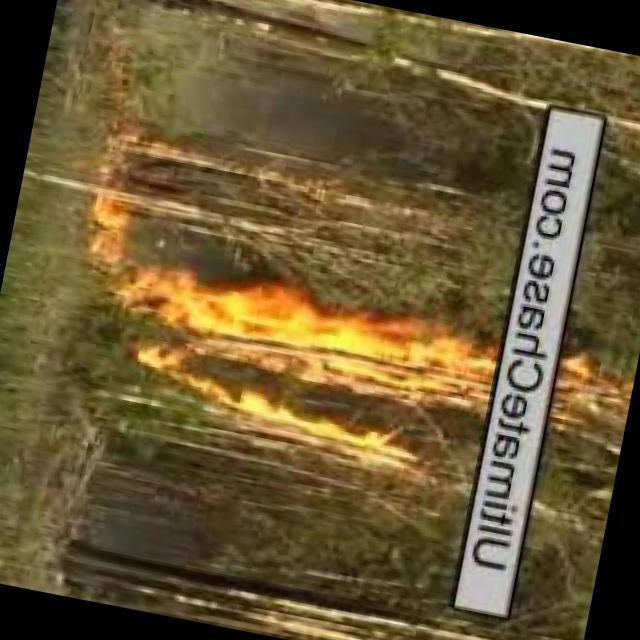Fire: (118, 256, 508, 483), (552, 362, 636, 442), (83, 195, 134, 269)
